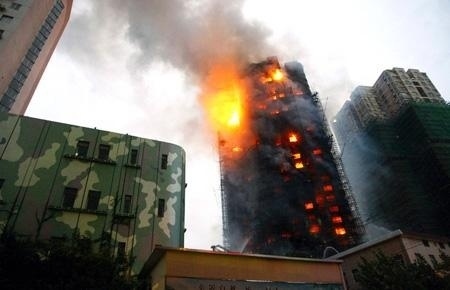fire: (203, 79, 249, 143), (304, 184, 344, 235), (259, 63, 289, 105), (283, 131, 308, 170)
